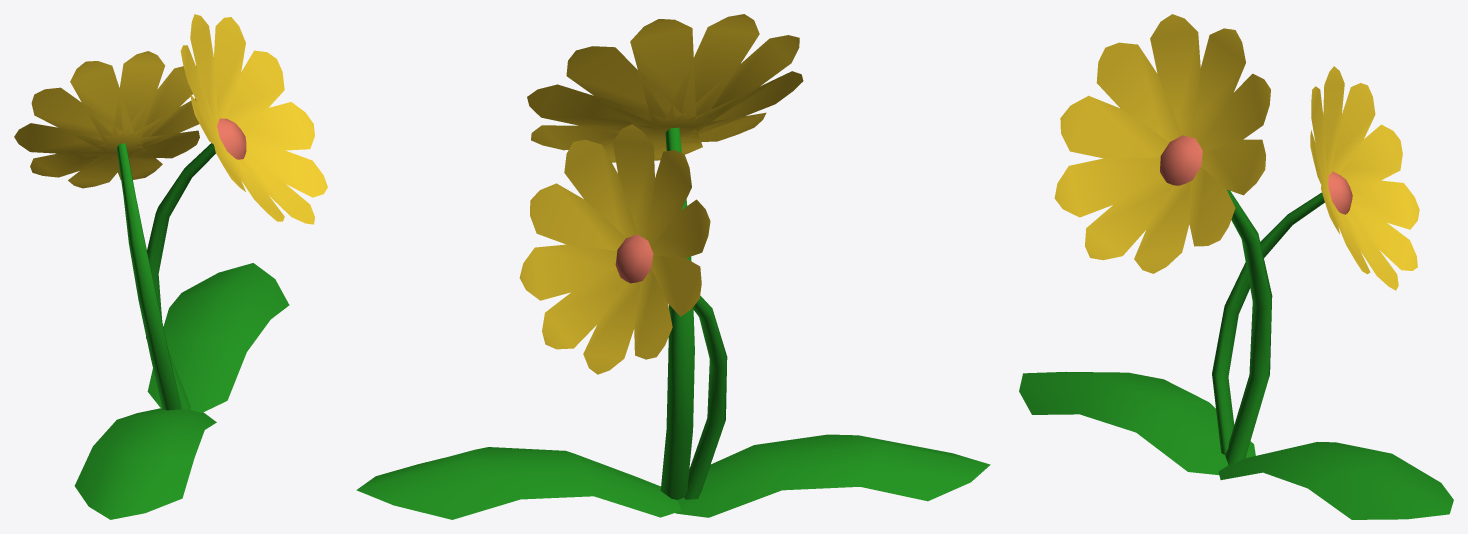
The model's file is flower-yellow.glb.
The picture shows the model from 3 angles, left to right: view 1: azimuth 30°, elevation 25°; view 2: azimuth 150°, elevation 25°; view 3: azimuth 270°, elevation 25°; orthographic projection. The views are drawn at different scales.
Visible parts, largest first — view 1: Flower.016; view 2: Flower.016; view 3: Flower.016.
Part boxes in pixels (left/top/right/bottom): Flower.016: left=14, top=14, right=327, bottom=519; Flower.016: left=356, top=14, right=990, bottom=519; Flower.016: left=1019, top=14, right=1453, bottom=519.
Bounding box in the file's own units: 2.76 × 3.09 × 2.73.
